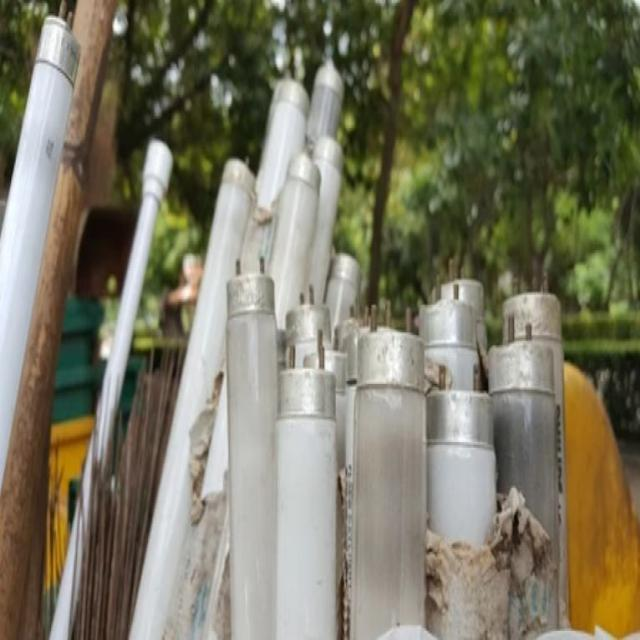electronic: (4, 49, 638, 639), (562, 359, 639, 637), (426, 387, 496, 548)
